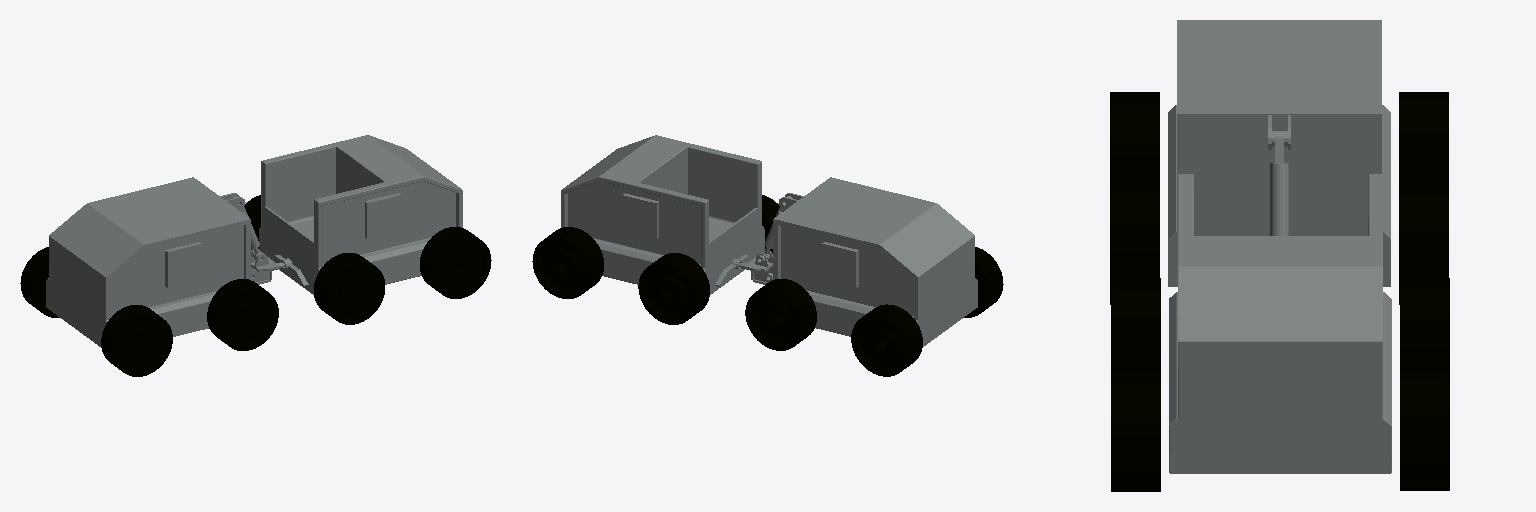
The robot description file, URDF, robot "wurencar":
<robot
  name="wurencar">
  <link
    name="base_link">
    <inertial>
      <origin
        xyz="0.116494052639358 0.741811667011434 -0.00142828222164451"
        rpy="0 0 0" />
      <mass
        value="37007.9971081485" />
      <inertia
        ixx="9767.2698950291"
        ixy="1557.5898738839"
        ixz="105.632355315903"
        iyy="92147.9903750358"
        iyz="-10.6536395374499"
        izz="91293.1128209872" />
    </inertial>
    <visual>
      <origin
        xyz="0 0 0"
        rpy="0 0 0" />
      <geometry>
        <mesh
          filename="package://wurencar/meshes/base_link.stl" />
      </geometry>
      <material
        name="">
        <color
          rgba="0.529411764705882 0.549019607843137 0.549019607843137 1" />
      </material>
    </visual>
    <collision>
      <origin
        xyz="0 0 0"
        rpy="0 0 0" />
      <geometry>
        <mesh
          filename="package://wurencar/meshes/base_link.stl" />
      </geometry>
    </collision>
  </link>
  <link
    name="w1_Link">
    <inertial>
      <origin
        xyz="0 -0.15706 0"
        rpy="0 0 0" />
      <mass
        value="97.6804359629511" />
      <inertia
        ixx="4.39403611577315"
        ixy="1.22512103226588E-16"
        ixz="0"
        iyy="7.54108875024598"
        iyz="-3.12693870758953E-16"
        izz="4.39403611577315" />
    </inertial>
    <visual>
      <origin
        xyz="0 0 0"
        rpy="0 0 0" />
      <geometry>
        <mesh
          filename="package://wurencar/meshes/w1_Link.stl" />
      </geometry>
      <material
        name="">
        <color
          rgba="0.0274509803921569 0.0274509803921569 0 1" />
      </material>
    </visual>
    <collision>
      <origin
        xyz="0 0 0"
        rpy="0 0 0" />
      <geometry>
        <mesh
          filename="package://wurencar/meshes/w1_Link.stl" />
      </geometry>
    </collision>
  </link>
  <joint
    name="w1_Joint"
    type="continuous">
    <origin
      xyz="2.3646 -0.75126 0.3805"
      rpy="-3.1416 -0.23525 3.1416" />
    <parent
      link="base_link" />
    <child
      link="w1_Link" />
    <axis
      xyz="0 -1 0" />
  </joint>
  <link
    name="w2_Link">
    <inertial>
      <origin
        xyz="0 -0.15706 0"
        rpy="0 0 0" />
      <mass
        value="97.6804359629511" />
      <inertia
        ixx="4.39403611577315"
        ixy="3.72514414879988E-17"
        ixz="-6.66133814775094E-16"
        iyy="7.54108875024598"
        iyz="2.32650261631468E-16"
        izz="4.39403611577315" />
    </inertial>
    <visual>
      <origin
        xyz="0 0 0"
        rpy="0 0 0" />
      <geometry>
        <mesh
          filename="package://wurencar/meshes/w2_Link.stl" />
      </geometry>
      <material
        name="">
        <color
          rgba="0.0274509803921569 0.0274509803921569 0 1" />
      </material>
    </visual>
    <collision>
      <origin
        xyz="0 0 0"
        rpy="0 0 0" />
      <geometry>
        <mesh
          filename="package://wurencar/meshes/w2_Link.stl" />
      </geometry>
    </collision>
  </link>
  <joint
    name="w2_Joint"
    type="continuous">
    <origin
      xyz="0.97657 -0.75126 0.3805"
      rpy="-3.1416 -0.4179 3.1416" />
    <parent
      link="base_link" />
    <child
      link="w2_Link" />
    <axis
      xyz="0 -1 0" />
  </joint>
  <link
    name="w3_Link">
    <inertial>
      <origin
        xyz="-1.11022302462516E-16 -0.15706 0"
        rpy="0 0 0" />
      <mass
        value="97.6804359629512" />
      <inertia
        ixx="4.39403611577316"
        ixy="-1.17674407096429E-16"
        ixz="-2.22044604925031E-16"
        iyy="7.54108875024599"
        iyz="-2.58576132713767E-16"
        izz="4.39403611577316" />
    </inertial>
    <visual>
      <origin
        xyz="0 0 0"
        rpy="0 0 0" />
      <geometry>
        <mesh
          filename="package://wurencar/meshes/w3_Link.stl" />
      </geometry>
      <material
        name="">
        <color
          rgba="0.0274509803921569 0.0274509803921569 0 1" />
      </material>
    </visual>
    <collision>
      <origin
        xyz="0 0 0"
        rpy="0 0 0" />
      <geometry>
        <mesh
          filename="package://wurencar/meshes/w3_Link.stl" />
      </geometry>
    </collision>
  </link>
  <joint
    name="w3_Joint"
    type="continuous">
    <origin
      xyz="-0.42143 -0.75626 0.3805"
      rpy="-3.1416 -0.61187 3.1416" />
    <parent
      link="base_link" />
    <child
      link="w3_Link" />
    <axis
      xyz="0 -1 0" />
  </joint>
  <link
    name="w4_Link">
    <inertial>
      <origin
        xyz="0 -0.15706 0"
        rpy="0 0 0" />
      <mass
        value="97.6804359629511" />
      <inertia
        ixx="4.39403611577315"
        ixy="1.35604895333148E-15"
        ixz="-4.44089209850063E-16"
        iyy="7.54108875024598"
        iyz="-1.29732553632333E-16"
        izz="4.39403611577315" />
    </inertial>
    <visual>
      <origin
        xyz="0 0 0"
        rpy="0 0 0" />
      <geometry>
        <mesh
          filename="package://wurencar/meshes/w4_Link.stl" />
      </geometry>
      <material
        name="">
        <color
          rgba="0.0274509803921569 0.0274509803921569 0 1" />
      </material>
    </visual>
    <collision>
      <origin
        xyz="0 0 0"
        rpy="0 0 0" />
      <geometry>
        <mesh
          filename="package://wurencar/meshes/w4_Link.stl" />
      </geometry>
    </collision>
  </link>
  <joint
    name="w4_Joint"
    type="continuous">
    <origin
      xyz="-1.8094 -0.7565 0.3805"
      rpy="-1.2276E-16 1.0486 -1.064E-16" />
    <parent
      link="base_link" />
    <child
      link="w4_Link" />
    <axis
      xyz="0 -1 0" />
  </joint>
  <link
    name="w5_Link">
    <inertial>
      <origin
        xyz="1.11022302462516E-16 0.15706 0"
        rpy="0 0 0" />
      <mass
        value="97.6804359629511" />
      <inertia
        ixx="4.39403611577315"
        ixy="6.13525261207671E-16"
        ixz="-1.38777878078145E-17"
        iyy="7.54108875024598"
        iyz="-3.43623019509713E-16"
        izz="4.39403611577315" />
    </inertial>
    <visual>
      <origin
        xyz="0 0 0"
        rpy="0 0 0" />
      <geometry>
        <mesh
          filename="package://wurencar/meshes/w5_Link.stl" />
      </geometry>
      <material
        name="">
        <color
          rgba="0.0274509803921569 0.0274509803921569 0 1" />
      </material>
    </visual>
    <collision>
      <origin
        xyz="0 0 0"
        rpy="0 0 0" />
      <geometry>
        <mesh
          filename="package://wurencar/meshes/w5_Link.stl" />
      </geometry>
    </collision>
  </link>
  <joint
    name="w5_Joint"
    type="continuous">
    <origin
      xyz="2.3646 0.7615 0.3805"
      rpy="-3.1416 1.5533 -3.1416" />
    <parent
      link="base_link" />
    <child
      link="w5_Link" />
    <axis
      xyz="0 -1 0" />
  </joint>
  <link
    name="w6_Link">
    <inertial>
      <origin
        xyz="-1.11022302462516E-16 0.15706 0"
        rpy="0 0 0" />
      <mass
        value="97.6804359629511" />
      <inertia
        ixx="4.39403611577315"
        ixy="9.59510354954716E-17"
        ixz="0"
        iyy="7.54108875024598"
        iyz="-4.86412317183669E-16"
        izz="4.39403611577315" />
    </inertial>
    <visual>
      <origin
        xyz="0 0 0"
        rpy="0 0 0" />
      <geometry>
        <mesh
          filename="package://wurencar/meshes/w6_Link.stl" />
      </geometry>
      <material
        name="">
        <color
          rgba="0.0274509803921569 0.0274509803921569 0 1" />
      </material>
    </visual>
    <collision>
      <origin
        xyz="0 0 0"
        rpy="0 0 0" />
      <geometry>
        <mesh
          filename="package://wurencar/meshes/w6_Link.stl" />
      </geometry>
    </collision>
  </link>
  <joint
    name="w6_Joint"
    type="continuous">
    <origin
      xyz="0.97657 0.7615 0.3805"
      rpy="-6.8885E-17 0.4759 -3.1559E-17" />
    <parent
      link="base_link" />
    <child
      link="w6_Link" />
    <axis
      xyz="0 -1 0" />
  </joint>
  <link
    name="w7_Link">
    <inertial>
      <origin
        xyz="0 0.15706 -2.77555756156289E-17"
        rpy="0 0 0" />
      <mass
        value="97.6804359629511" />
      <inertia
        ixx="4.39403611577316"
        ixy="1.29319818307777E-17"
        ixz="-3.33066907387547E-16"
        iyy="7.54108875024599"
        iyz="-6.27910632203099E-17"
        izz="4.39403611577315" />
    </inertial>
    <visual>
      <origin
        xyz="0 0 0"
        rpy="0 0 0" />
      <geometry>
        <mesh
          filename="package://wurencar/meshes/w7_Link.stl" />
      </geometry>
      <material
        name="">
        <color
          rgba="0.0274509803921569 0.0274509803921569 0 1" />
      </material>
    </visual>
    <collision>
      <origin
        xyz="0 0 0"
        rpy="0 0 0" />
      <geometry>
        <mesh
          filename="package://wurencar/meshes/w7_Link.stl" />
      </geometry>
    </collision>
  </link>
  <joint
    name="w7_Joint"
    type="continuous">
    <origin
      xyz="-0.42143 0.7565 0.3805"
      rpy="-1.2276E-16 1.0486 -1.064E-16" />
    <parent
      link="base_link" />
    <child
      link="w7_Link" />
    <axis
      xyz="0 -1 0" />
  </joint>
  <link
    name="w8_Link">
    <inertial>
      <origin
        xyz="0 0.15706 0"
        rpy="0 0 0" />
      <mass
        value="97.6804359629511" />
      <inertia
        ixx="4.39403611577315"
        ixy="-1.21459052971243E-16"
        ixz="-1.11022302462516E-15"
        iyy="7.54108875024598"
        iyz="6.7864512439068E-16"
        izz="4.39403611577315" />
    </inertial>
    <visual>
      <origin
        xyz="0 0 0"
        rpy="0 0 0" />
      <geometry>
        <mesh
          filename="package://wurencar/meshes/w8_Link.stl" />
      </geometry>
      <material
        name="">
        <color
          rgba="0.0274509803921569 0.0274509803921569 0 1" />
      </material>
    </visual>
    <collision>
      <origin
        xyz="0 0 0"
        rpy="0 0 0" />
      <geometry>
        <mesh
          filename="package://wurencar/meshes/w8_Link.stl" />
      </geometry>
    </collision>
  </link>
  <joint
    name="w8_Joint"
    type="continuous">
    <origin
      xyz="-1.8094 0.75626 0.3805"
      rpy="-3.1416 0.72044 -3.1416" />
    <parent
      link="base_link" />
    <child
      link="w8_Link" />
    <axis
      xyz="0 -1 0" />
  </joint>
</robot>

--- What the picture shows (computed from the rendered views, not written in the file) ---
Views: 3 orthographic renders of the robot side by side, from view 1: azimuth 30°, elevation 25°; view 2: azimuth 150°, elevation 25°; view 3: azimuth 270°, elevation 25°.
Robot: wurencar — 9 links, 8 joints (8 continuous); root link base_link; default pose: every joint at zero.
Visible links, largest first — view 1: base_link, w4_Link, w3_Link, w2_Link, w1_Link, w8_Link; view 2: base_link, w8_Link, w5_Link, w7_Link, w6_Link, w4_Link; view 3: base_link, w1_Link, w5_Link, w3_Link, w7_Link, w2_Link, w4_Link, w6_Link, w8_Link.
Link boxes in pixels (left/top/right/bottom): base_link: left=46, top=135, right=462, bottom=346; w4_Link: left=101, top=305, right=172, bottom=376; w3_Link: left=207, top=279, right=278, bottom=350; w2_Link: left=314, top=253, right=384, bottom=324; w1_Link: left=420, top=227, right=491, bottom=298; w8_Link: left=20, top=247, right=59, bottom=317; base_link: left=561, top=135, right=977, bottom=346; w8_Link: left=851, top=304, right=922, bottom=376; w5_Link: left=532, top=227, right=603, bottom=298; w7_Link: left=745, top=279, right=816, bottom=350; w6_Link: left=638, top=253, right=709, bottom=324; w4_Link: left=964, top=247, right=1003, bottom=317; base_link: left=1168, top=20, right=1391, bottom=473; w1_Link: left=1111, top=371, right=1160, bottom=491; w5_Link: left=1400, top=371, right=1449, bottom=490; w3_Link: left=1110, top=185, right=1159, bottom=304; w7_Link: left=1399, top=185, right=1448, bottom=304; w2_Link: left=1111, top=278, right=1160, bottom=370; w4_Link: left=1110, top=92, right=1159, bottom=184; w6_Link: left=1400, top=278, right=1449, bottom=370; w8_Link: left=1399, top=92, right=1448, bottom=184.
Bounding box of the posed robot: 4.93 × 2.15 × 1.41 m (x, y, z).
Meshes: 9 distinct files referenced, 9 mesh visuals loaded (9 binary STL).